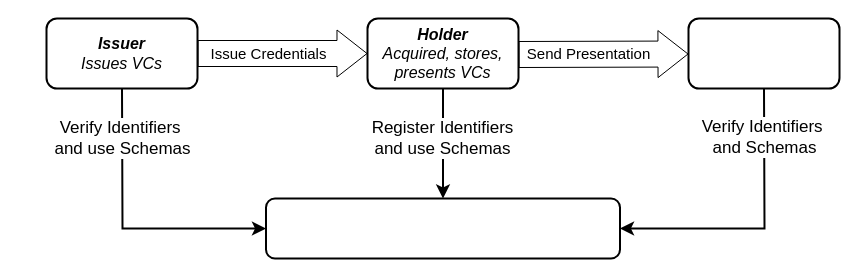
Image size: 858x276. Some labels were removed from this diagram. Each missing label, with the centre of its shape:
"Verifiable Data Registry Maintains identifiers and schemas" goes at point (442, 228).
"Verifier Verifies VCs" goes at point (763, 53).
